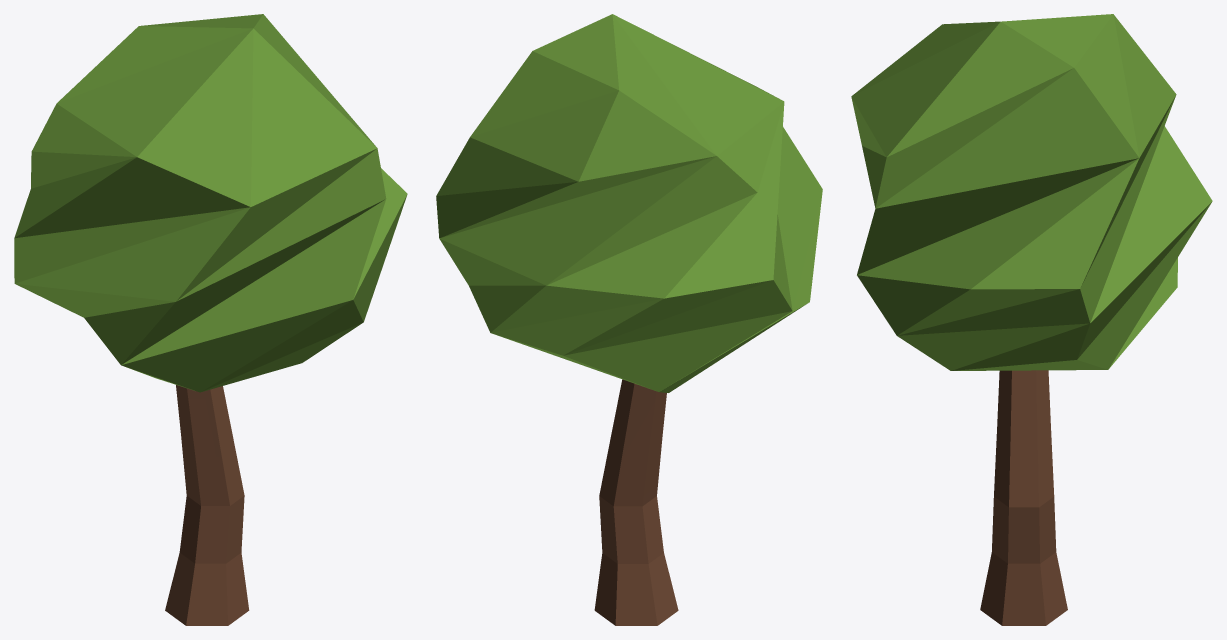
Rendered from SPW_Natures_Tree_02.glb.
3 views of the same model, side by side, from view 1: azimuth 30°, elevation 25°; view 2: azimuth 150°, elevation 25°; view 3: azimuth 270°, elevation 25° (orthographic). The views are drawn at different scales.
Parts seen in each view (by area): view 1: SPW_Natures_Tree_02; view 2: SPW_Natures_Tree_02; view 3: SPW_Natures_Tree_02.
Part boxes in pixels (<box>): SPW_Natures_Tree_02: <box>14,14,407,625</box>; SPW_Natures_Tree_02: <box>436,14,822,625</box>; SPW_Natures_Tree_02: <box>851,14,1212,625</box>.
Size of the model in its own units: 3.19 by 5.08 by 2.74.
1 material, 1 textured.
